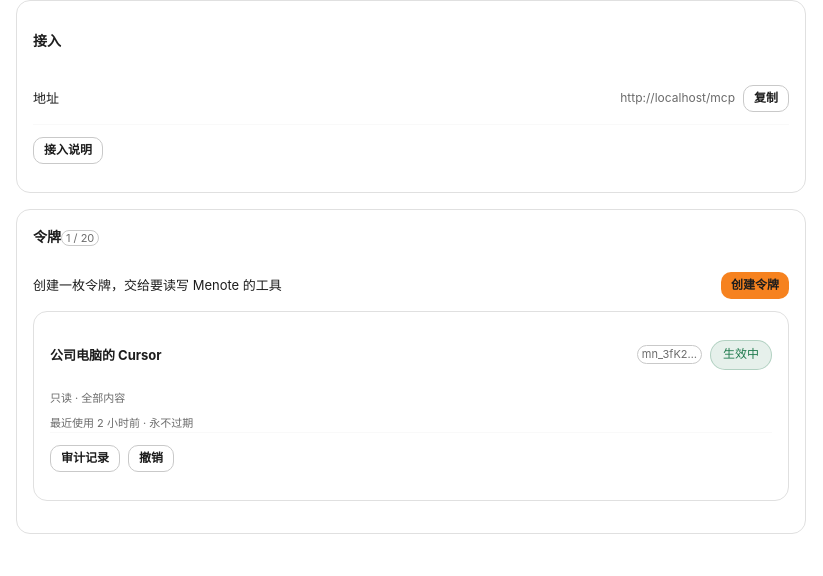
Scenario: 设置 › MCP：撤销 › 行内二次确认 + 后果平铺；确认后状态变「已撤销」
The image size is (823, 576).
Expected: the text "公司电脑的 Cursor" is shown, [50,345,162,365]
Step 1. Click the button "撤销" → (151, 458), box [128,445,174,472]
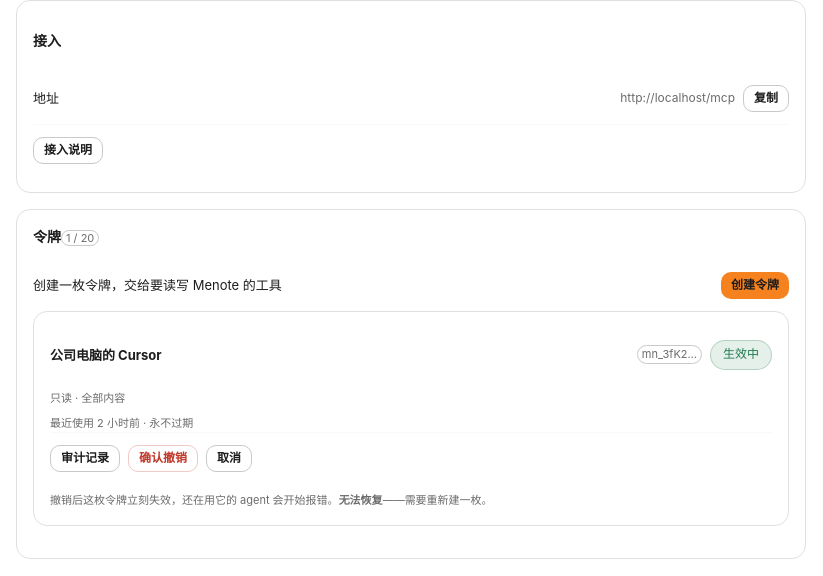
Expected: the text "撤销后这枚令牌立刻失效，还在用它的 agent 会开始报错。无法恢复——需要重新建一枚。" is shown, [50,493,493,507]
Expected: the text "无法恢复" is shown, [339,493,383,507]
Step 2. Click the button "确认撤销" → (163, 458), box [128,445,198,472]
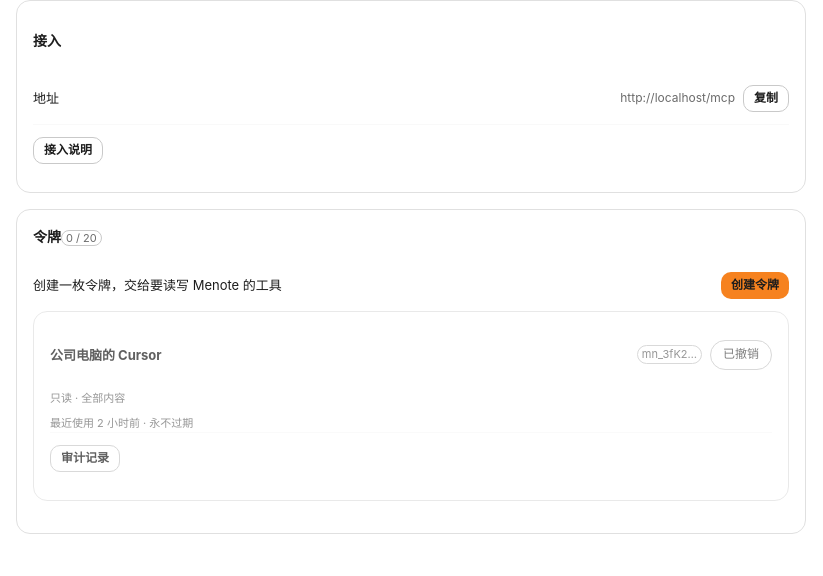
Expected: the text "已撤销" is shown, [710,340,772,370]
